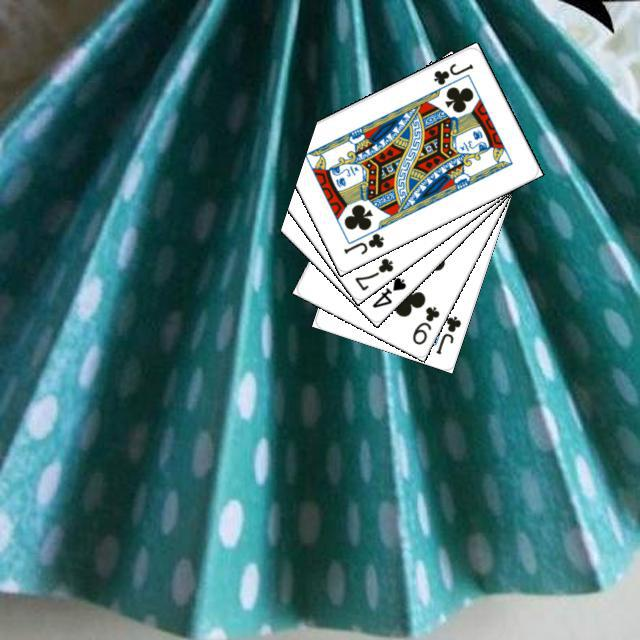4s: (367, 272, 408, 310)
7c: (350, 253, 395, 293)
9c: (407, 301, 441, 347)
Jc: (431, 311, 463, 356), (428, 58, 475, 87), (338, 228, 386, 256)
